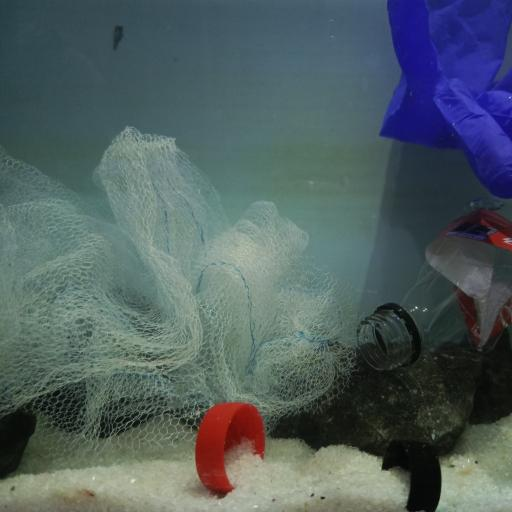bottle_cap: (195, 400, 267, 495), (382, 439, 444, 512)
glove: (373, 2, 512, 207)
net: (0, 126, 360, 455)
plastic_bottle: (358, 198, 512, 371)
